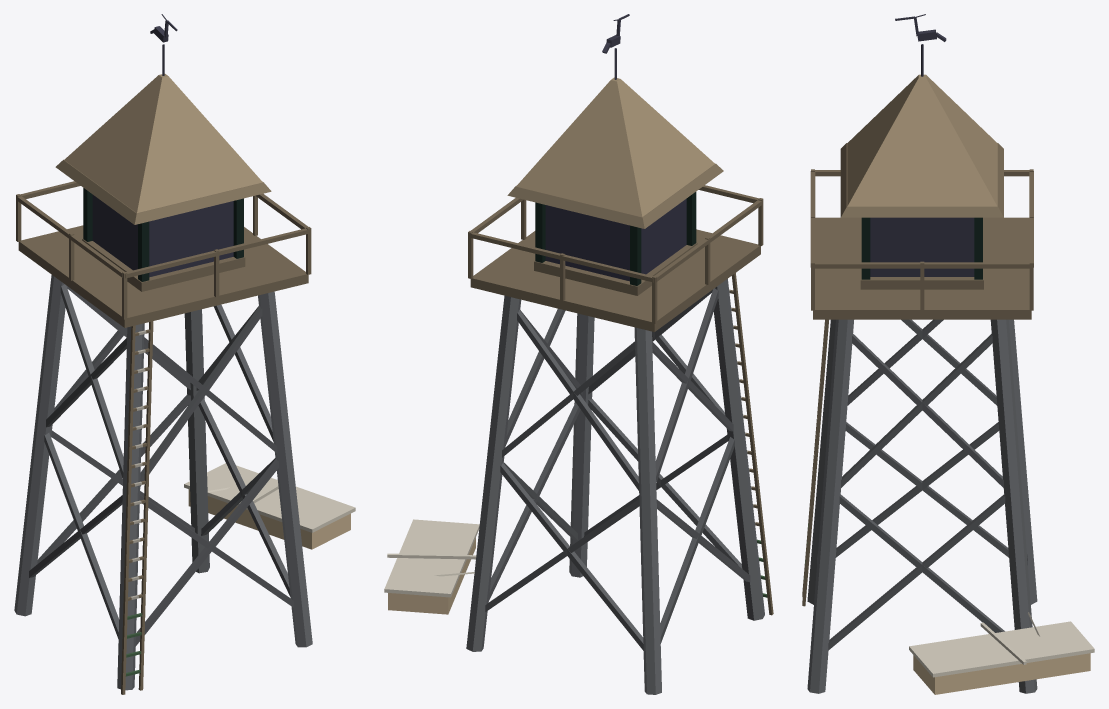
File: heron_light.glb
The picture shows the model from 3 angles, left to right: view 1: azimuth 30°, elevation 25°; view 2: azimuth 150°, elevation 25°; view 3: azimuth 270°, elevation 25°; orthographic projection. The views are drawn at different scales.
Parts seen in each view (by area): view 1: driftwood_d40, silverfog_d45, silverfog_d55, driftwood_d20, ink_l12, bone_d10, driftwood_d35, driftwood_l5, pine_d60; view 2: silverfog_d45, driftwood_d40, silverfog_d55, driftwood_d20, ink_l12, bone_d10, driftwood_d35, pine_d60, driftwood_l5; view 3: driftwood_d40, silverfog_d45, driftwood_d20, silverfog_d55, bone_d10, ink_l12, driftwood_l5, driftwood_d35, pine_d60, ink_l15.
Part boxes in pixels (x1,y1,x2,y2): driftwood_d40: [16, 181, 311, 694]; silverfog_d45: [14, 275, 312, 690]; silverfog_d55: [29, 284, 293, 646]; driftwood_d20: [64, 74, 262, 212]; ink_l12: [92, 195, 233, 277]; bone_d10: [184, 463, 355, 532]; driftwood_d35: [55, 159, 271, 224]; driftwood_l5: [188, 489, 350, 549]; pine_d60: [83, 188, 243, 281]; silverfog_d45: [466, 279, 764, 694]; driftwood_d40: [468, 185, 773, 615]; silverfog_d55: [485, 288, 750, 650]; driftwood_d20: [516, 77, 714, 217]; ink_l12: [545, 198, 686, 281]; bone_d10: [384, 519, 479, 597]; driftwood_d35: [507, 163, 723, 228]; pine_d60: [535, 192, 696, 285]; driftwood_l5: [388, 538, 475, 614]; driftwood_d40: [802, 169, 1033, 606]; silverfog_d45: [807, 319, 1037, 693]; driftwood_d20: [847, 74, 997, 206]; silverfog_d55: [817, 319, 1027, 650]; bone_d10: [909, 612, 1094, 677]; ink_l12: [870, 217, 974, 276]; driftwood_l5: [913, 653, 1090, 694]; driftwood_d35: [840, 143, 1003, 217]; pine_d60: [861, 217, 982, 279]; ink_l15: [895, 14, 946, 76].
Bounding box in the file's own units: 5.32 × 10.53 × 4.42.
